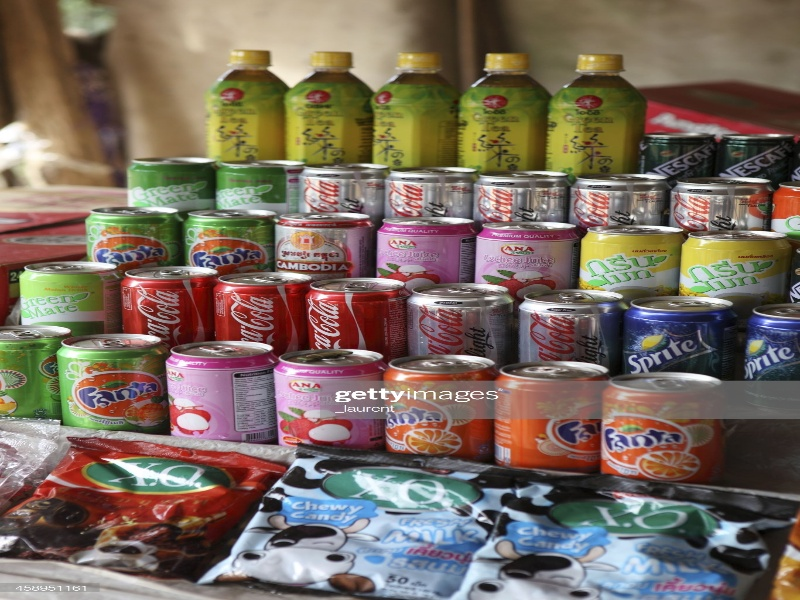coke-can: (113, 259, 222, 337), (301, 278, 405, 348), (220, 273, 302, 343)
coke-can-diet: (513, 280, 625, 370), (410, 281, 517, 352), (290, 164, 396, 218), (476, 171, 566, 233), (570, 173, 666, 228), (665, 180, 770, 227), (377, 168, 472, 208)
nescafe-can: (716, 133, 794, 184), (640, 136, 715, 178)
